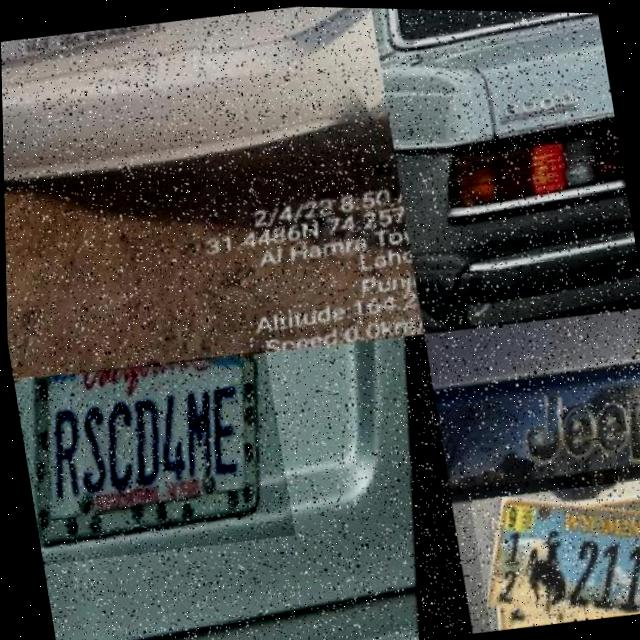LicensePlate: (12, 345, 293, 569), (485, 495, 640, 616), (0, 15, 202, 104)
